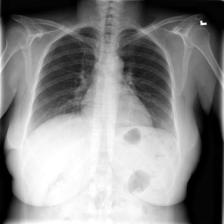normal: (22, 23, 182, 165)
